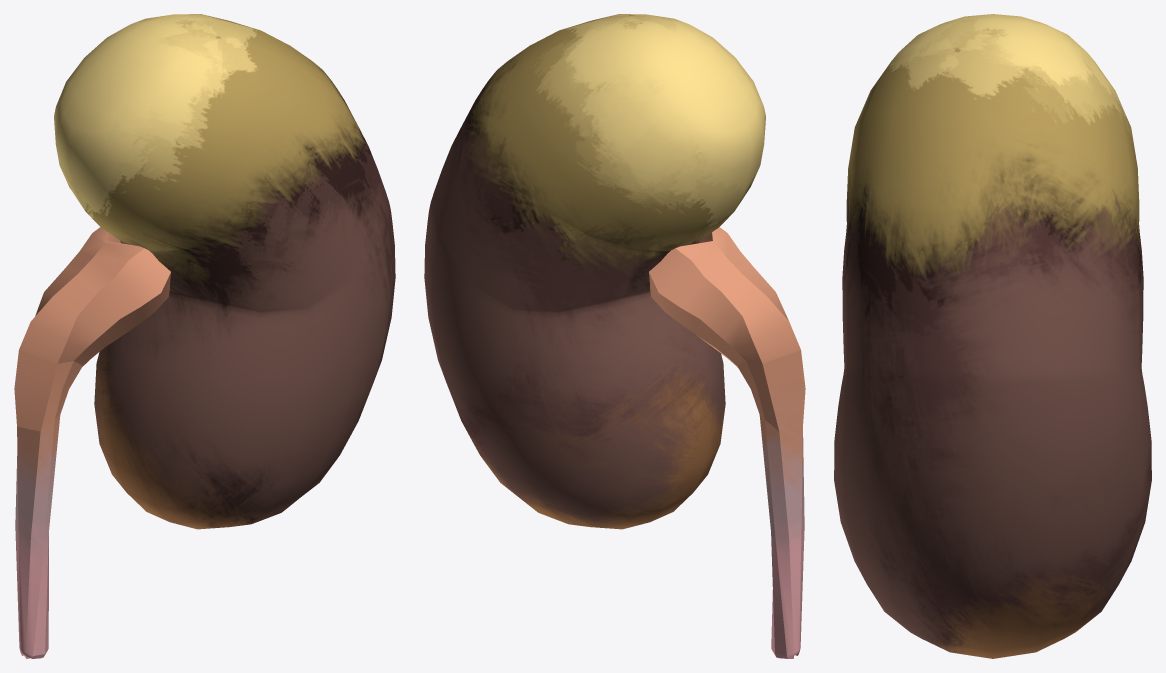
File: rein_V2.fbx
3 renders of one model, left to right at view 1: azimuth 30°, elevation 25°; view 2: azimuth 150°, elevation 25°; view 3: azimuth 270°, elevation 25°, orthographic. The views are drawn at different scales.
Parts seen in each view (by area): view 1: rein, rein_tuyaux; view 2: rein, rein_tuyaux; view 3: rein.
Boxes of the visible parts, x1=… form: rein: x1=54, y1=14, x2=395, y2=529; rein_tuyaux: x1=14, y1=227, x2=170, y2=658; rein: x1=424, y1=14, x2=765, y2=529; rein_tuyaux: x1=649, y1=227, x2=805, y2=658; rein: x1=834, y1=14, x2=1151, y2=658.
Bounding box in the file's own units: 1.43 × 2.23 × 0.9112.
